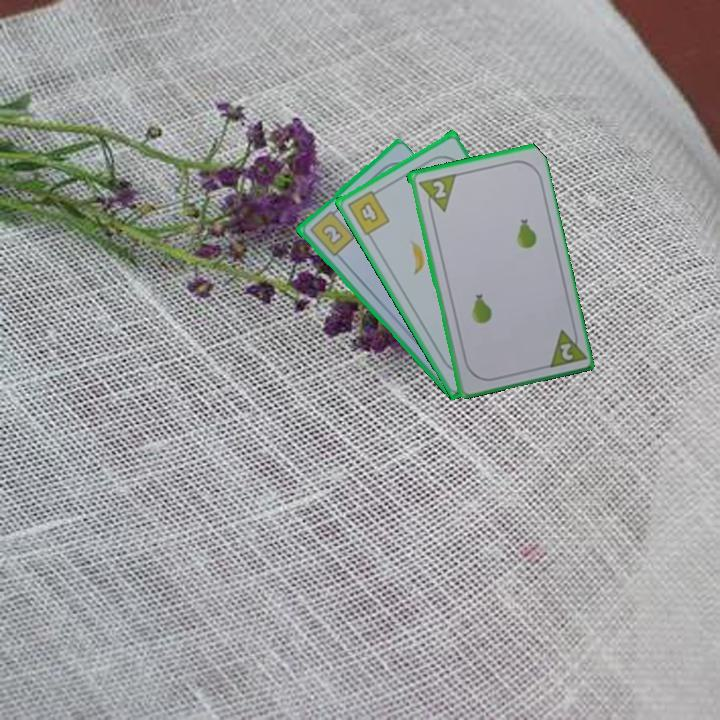2b: (306, 205, 357, 259)
2p: (428, 177, 449, 201), (556, 339, 576, 363)
4b: (343, 185, 392, 238)
